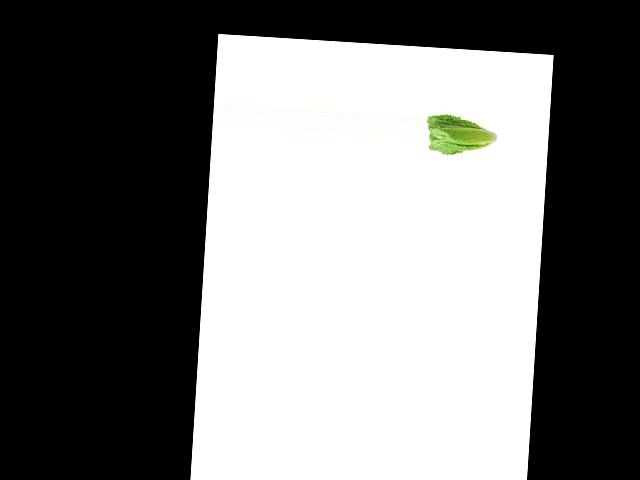lettuce: (424, 109, 499, 160)
